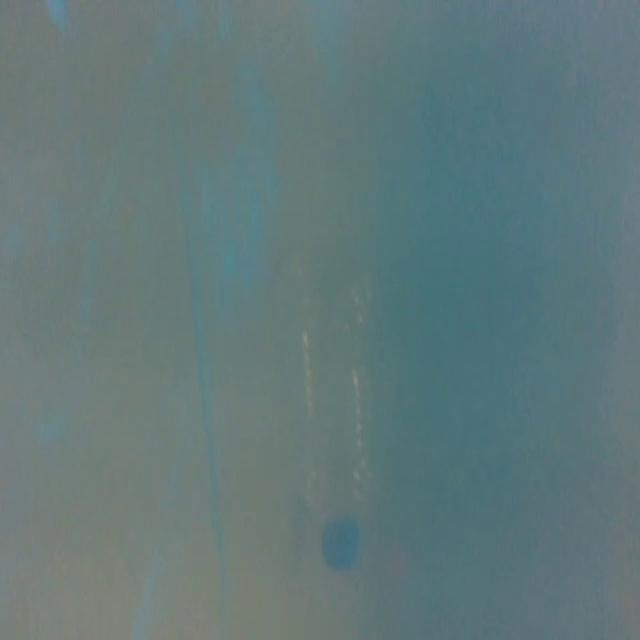plastic bottle: (283, 263, 392, 573)
